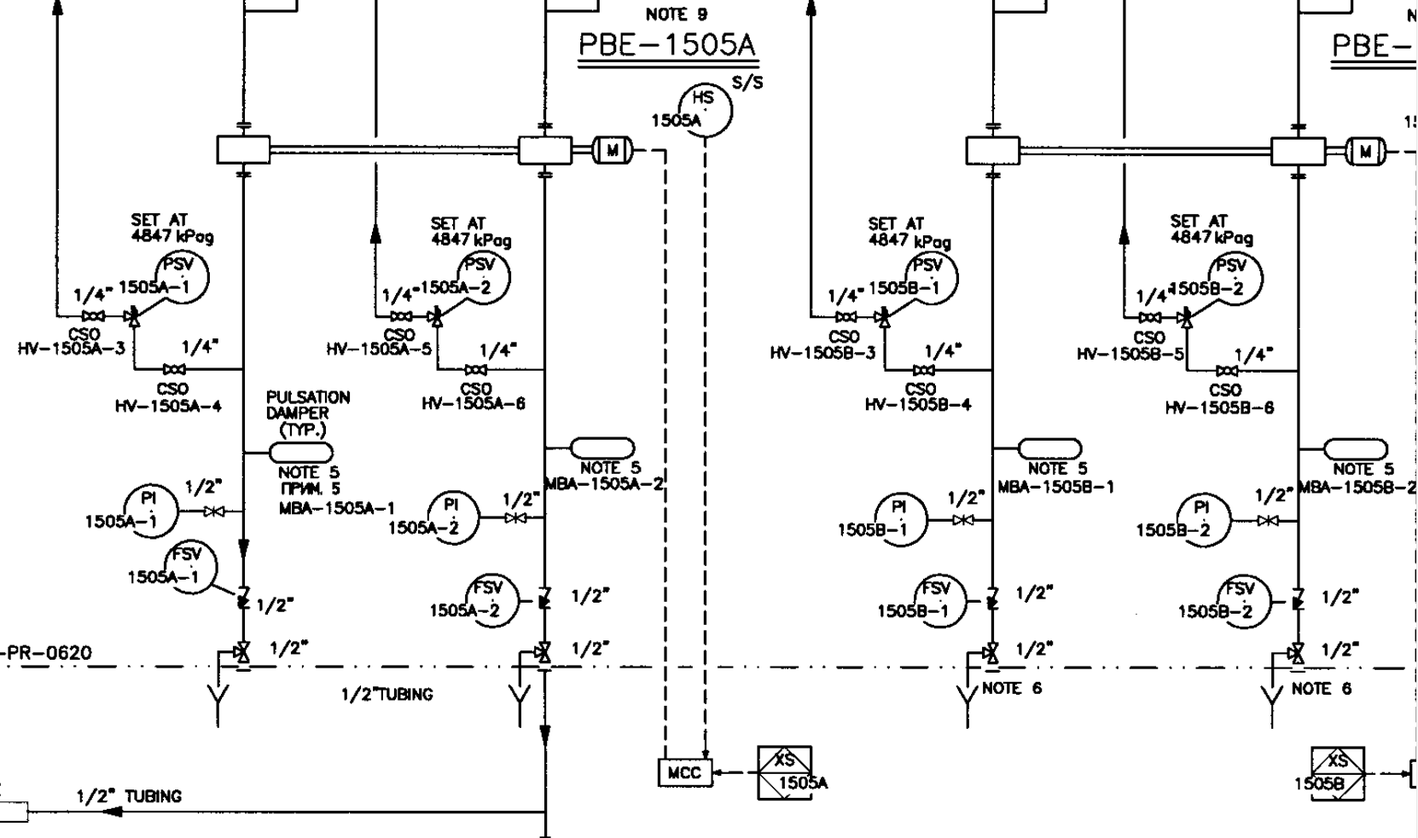Instrument-offset: (833, 479, 941, 556), (1131, 480, 1236, 554), (427, 566, 527, 640), (871, 569, 975, 639), (388, 477, 483, 552), (1180, 567, 1278, 639), (128, 535, 224, 606), (1165, 248, 1272, 309), (114, 247, 223, 304), (421, 246, 523, 306), (85, 479, 181, 539), (869, 249, 964, 309), (652, 77, 736, 143)
Instrument-square-offset: (1292, 737, 1380, 808), (750, 737, 833, 804)
